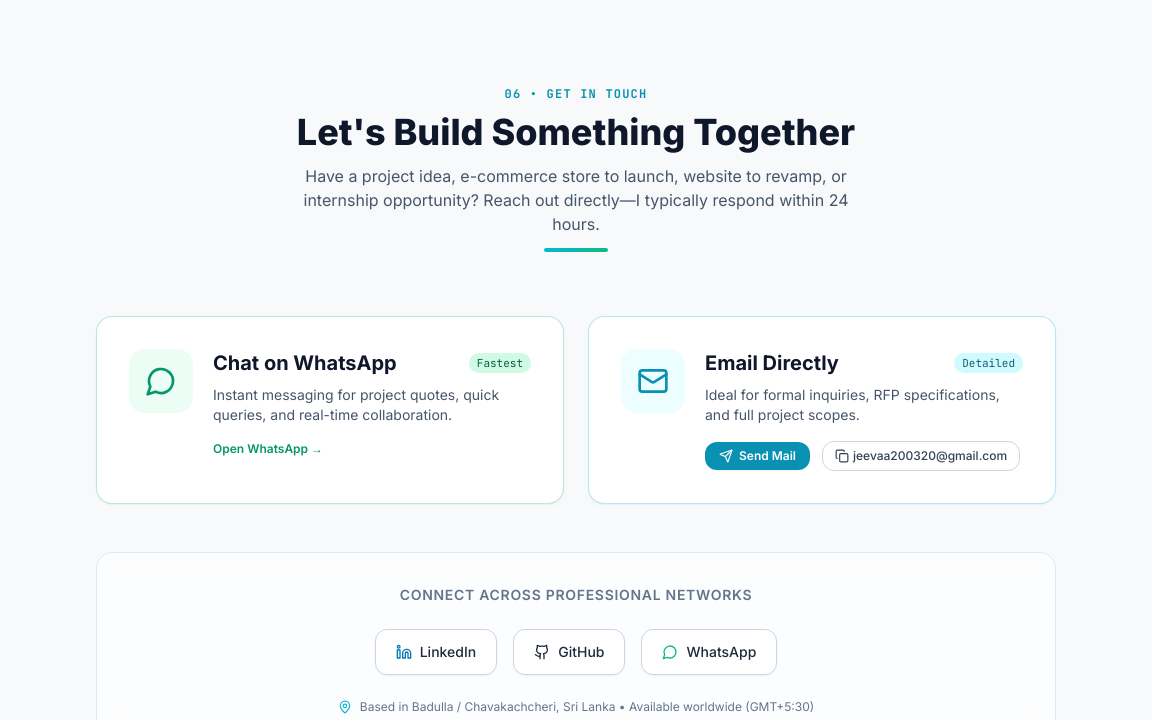
Test: Contact Component › copies email to clipboard on copy button click
Click the button titled "Copy email to clipboard". click: [921, 456]
box: top-left (822, 441), bottom-right (1020, 471)
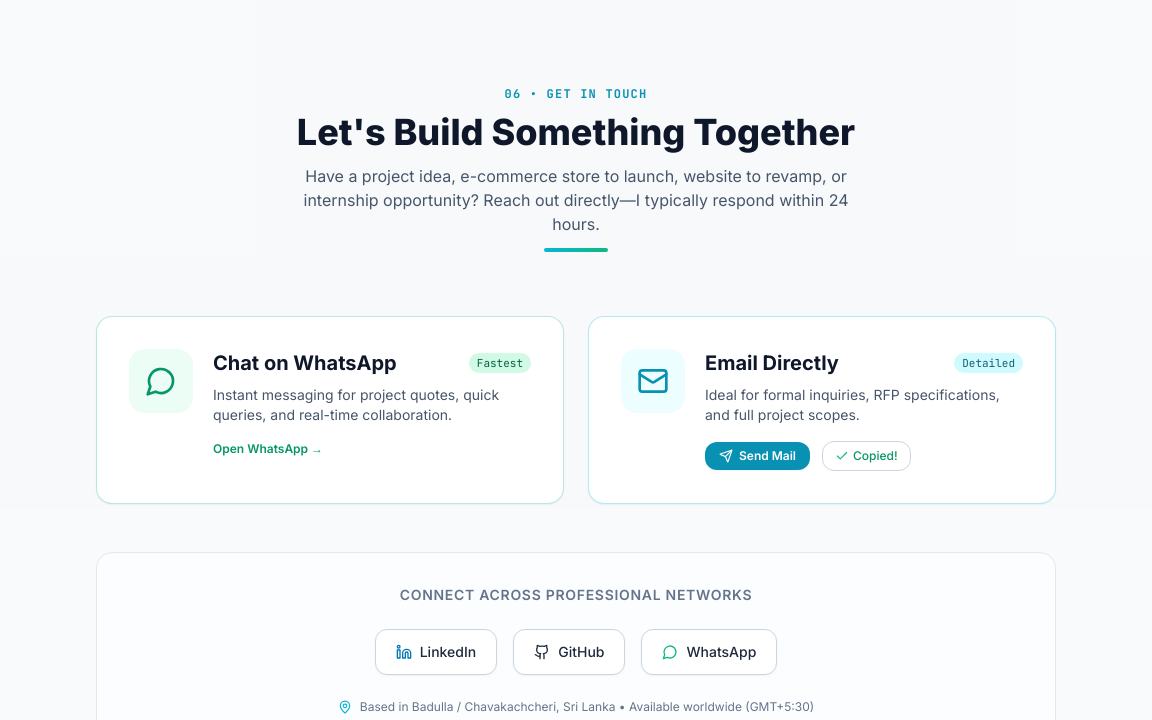
Now the text "Copied!" is shown, box top-left (853, 448), bottom-right (898, 464)
